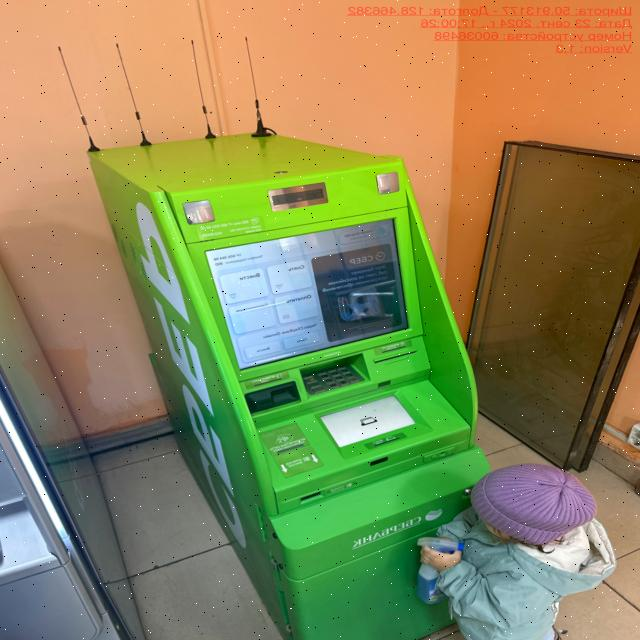bank: (88, 126, 492, 640)
